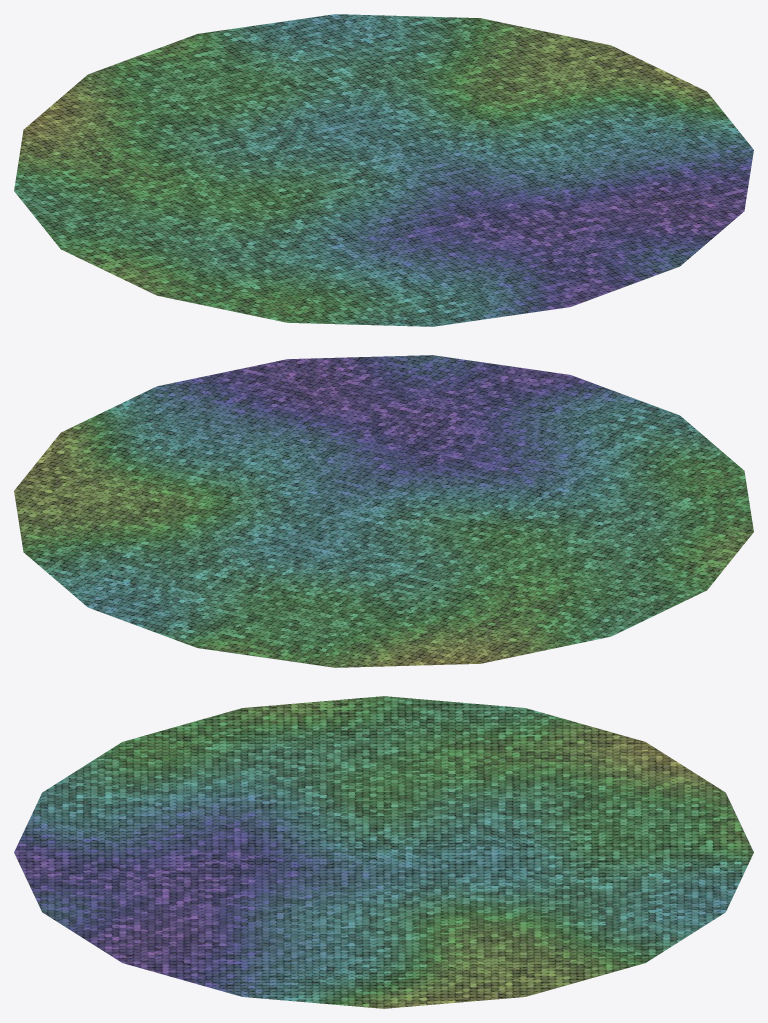
The model's file is wafer.glb.
The picture shows the model from 3 angles, top to bottom: view 1: azimuth 30°, elevation 25°; view 2: azimuth 150°, elevation 25°; view 3: azimuth 270°, elevation 25°; orthographic projection.
Parts seen in each view (by area): view 1: Circle; view 2: Circle; view 3: Circle.
Boxes of the visible parts, box(x1,y1,x2,y2) form: Circle: box(14, 14, 753, 326); Circle: box(14, 355, 753, 667); Circle: box(14, 696, 753, 1008).
Size of the model in its own units: 2 by 0 by 2.
Materials: 1 (1 with a texture image).
